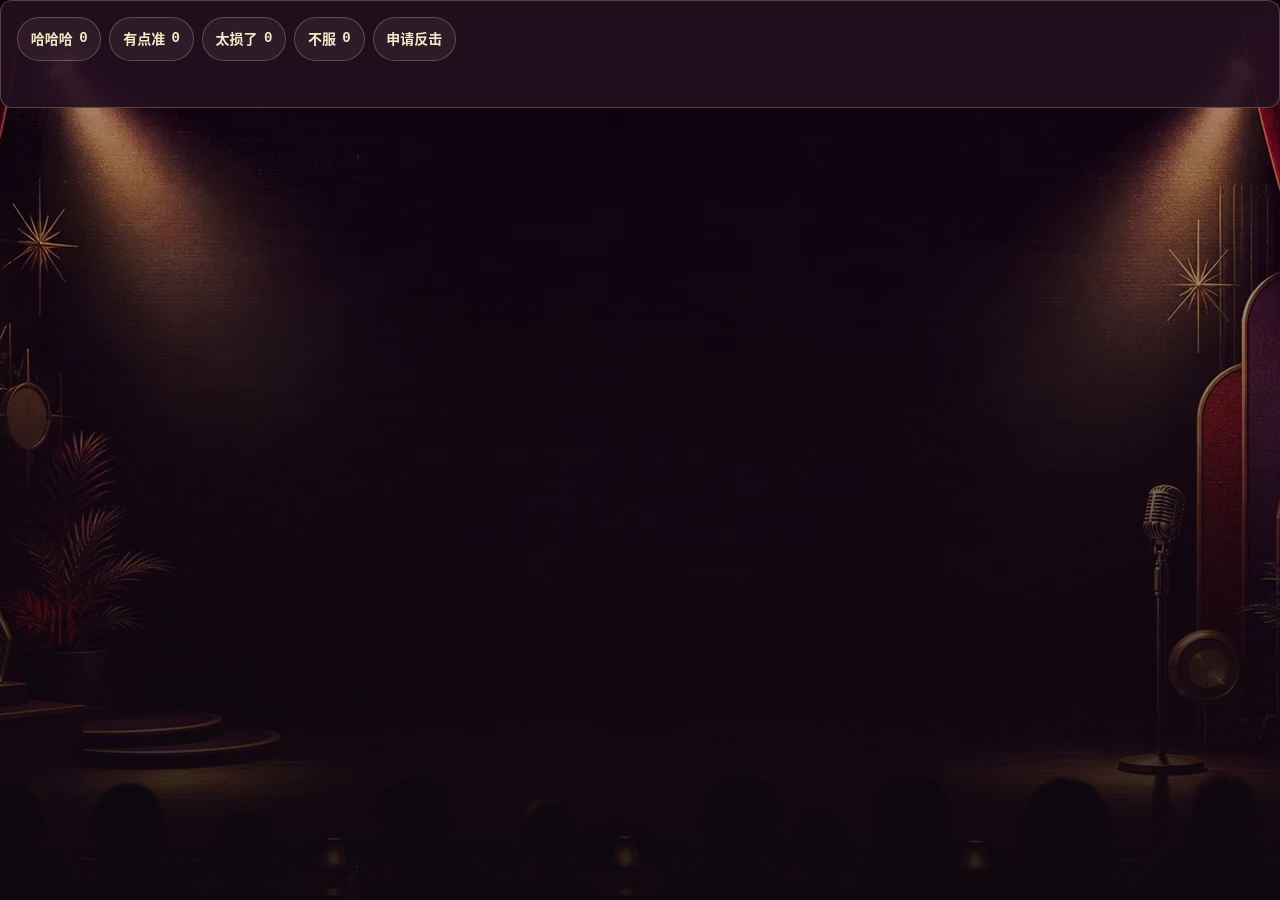
it: AudienceReactionBar › resets the two-step threshold after the prompt window
Click the link "不服 0" at x=329, y=39, box [294, 17, 365, 61]
Wait 2500 ms
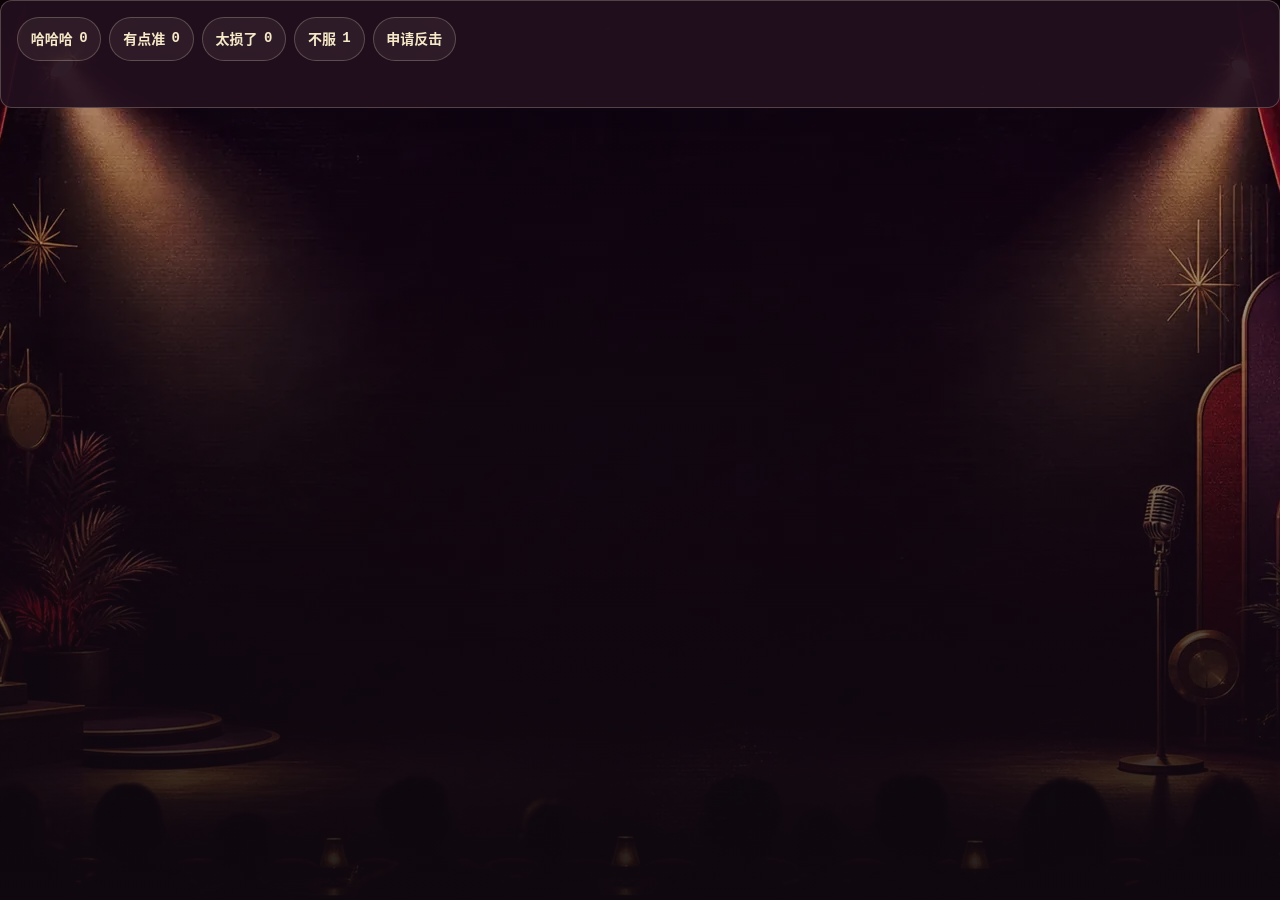
Click the link "不服 1" at x=329, y=39, box [294, 17, 365, 61]
Wait 700 ms
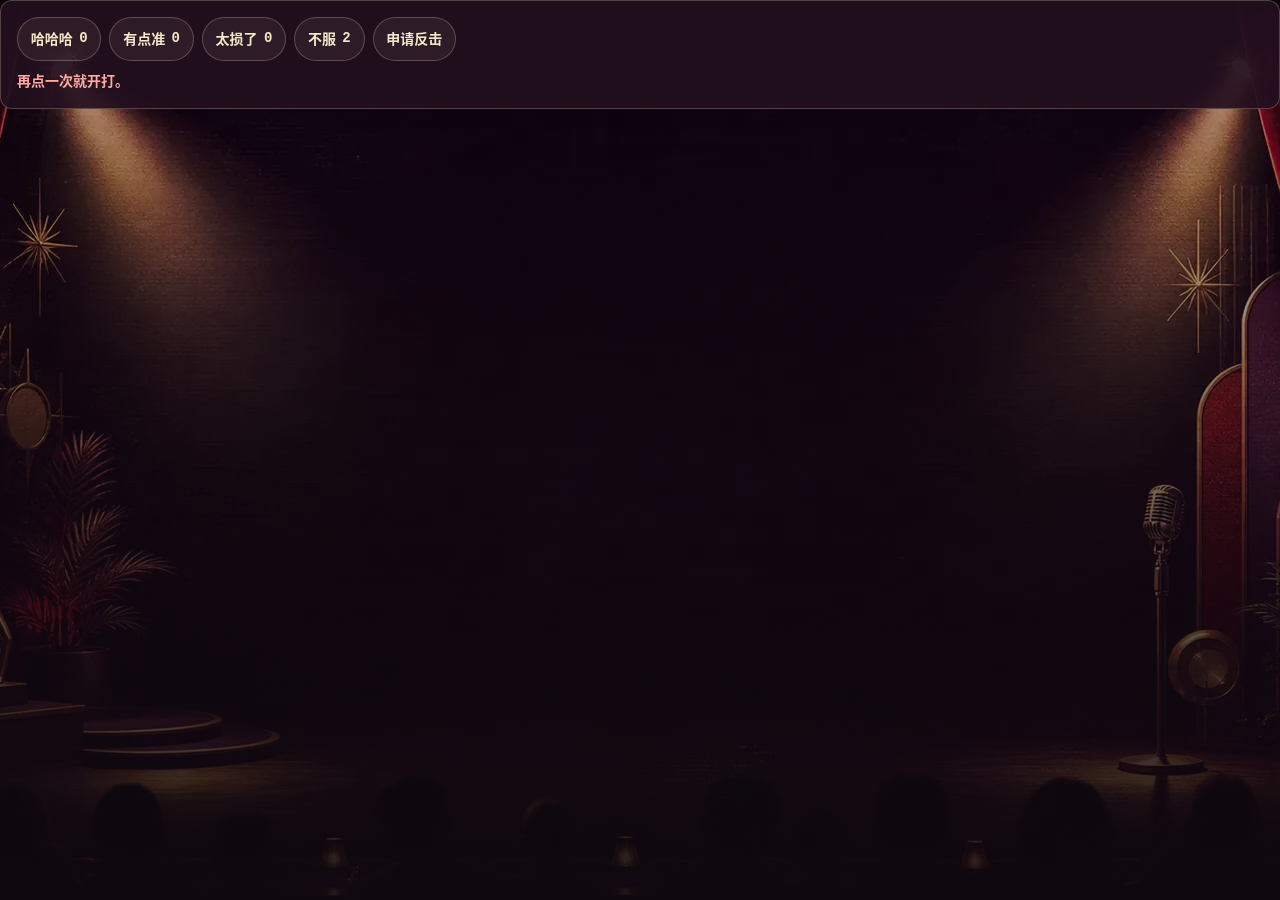
expect the message reads "再点一次就开打。": met, box [17, 70, 129, 90]
